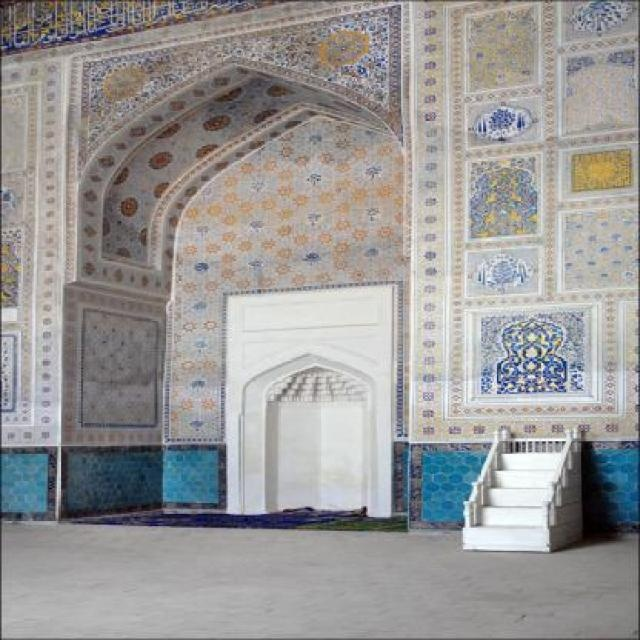stair: (460, 446, 562, 540)
